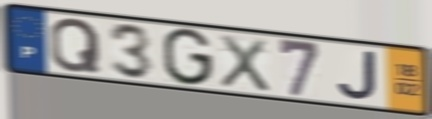3: (107, 22, 155, 81)
7: (277, 36, 323, 100)
G: (161, 26, 215, 88)
J: (335, 49, 379, 102)
Q: (48, 16, 103, 74)
X: (217, 32, 272, 94)
